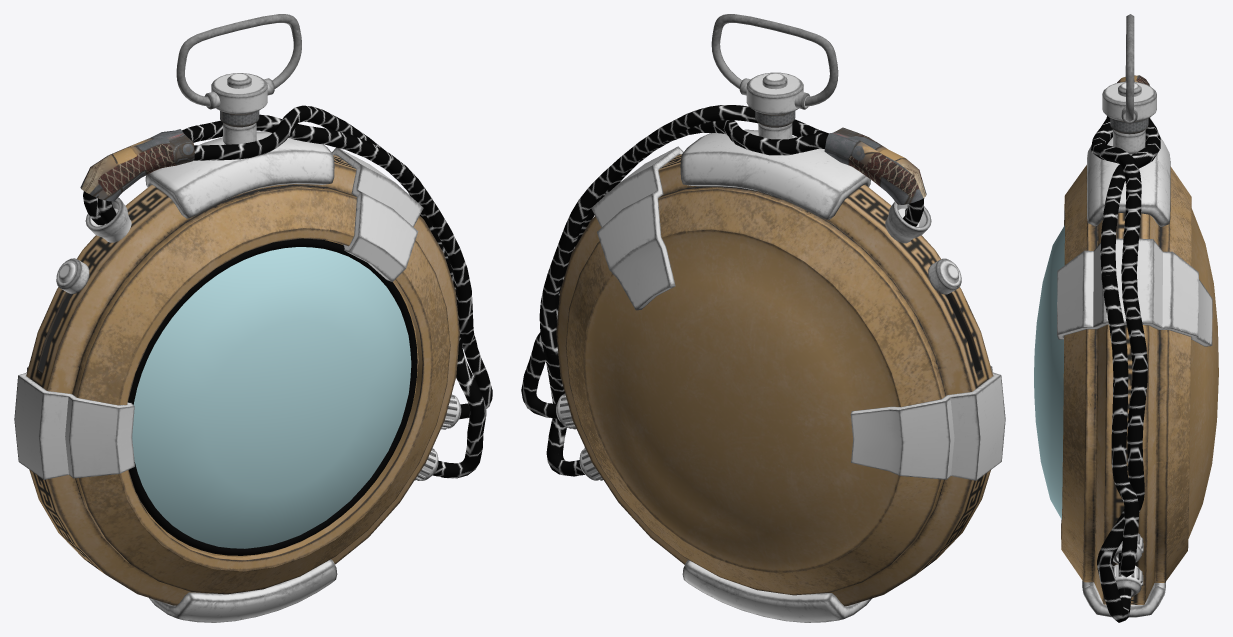
The model's file is FantasyCompass.fbx.
The picture shows the model from 3 angles, left to right: view 1: azimuth 30°, elevation 25°; view 2: azimuth 150°, elevation 25°; view 3: azimuth 270°, elevation 25°; orthographic projection. The views are drawn at different scales.
Visible parts, largest first — view 1: Compas; view 2: Compas; view 3: Compas.
Part boxes in pixels (left/top/right/bottom): Compas: left=14, top=14, right=492, bottom=622; Compas: left=521, top=14, right=1005, bottom=622; Compas: left=1034, top=14, right=1218, bottom=622.
Bounding box in the file's own units: 23.01 × 27.61 × 8.2.
Materials: 3 (2 with a texture image).
